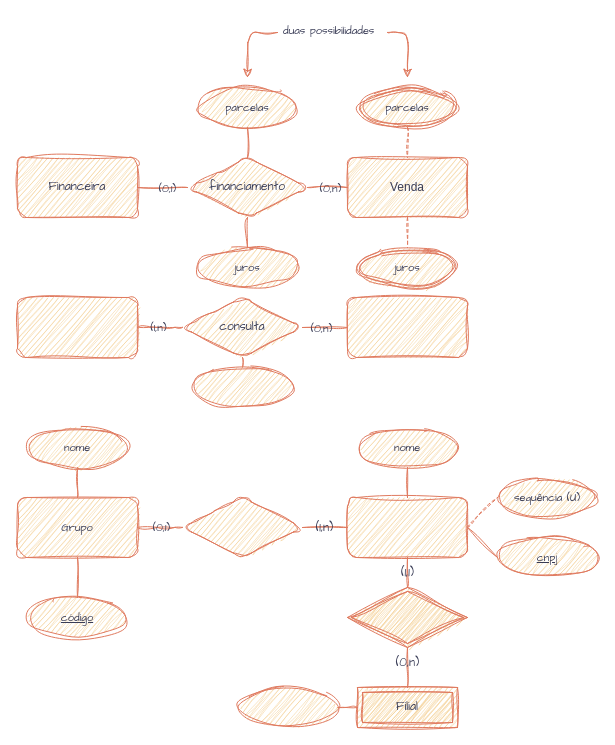
This 615x745 diagram has some shape labels left out. The box of each missing label's shape, as (x1, y1, x2, y2) in pixels:
data: (192, 366, 292, 408)
Empresa: (346, 496, 468, 558)
formado: (182, 496, 302, 558)
Médico: (16, 296, 138, 358)
Paciente: (346, 296, 468, 358)
Possui: (346, 586, 468, 648)
sequência: (236, 686, 338, 728)
